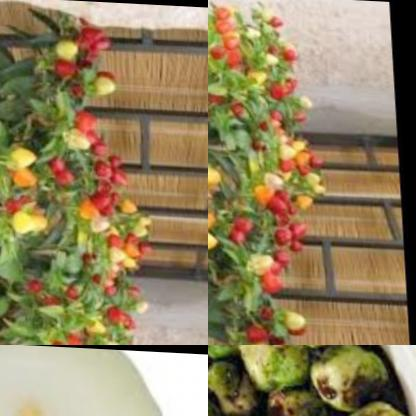brus capusta: (208, 345, 415, 416)
hot pepper: (74, 113, 156, 277), (249, 124, 331, 288), (235, 5, 322, 124), (208, 0, 262, 124), (64, 12, 125, 117), (16, 271, 100, 345), (72, 276, 159, 345), (251, 282, 313, 345), (38, 128, 87, 202), (216, 195, 265, 269), (0, 188, 56, 239), (0, 127, 42, 194), (44, 28, 86, 88), (232, 309, 274, 345), (208, 153, 229, 204), (208, 198, 221, 265)
onion: (0, 345, 172, 416)
